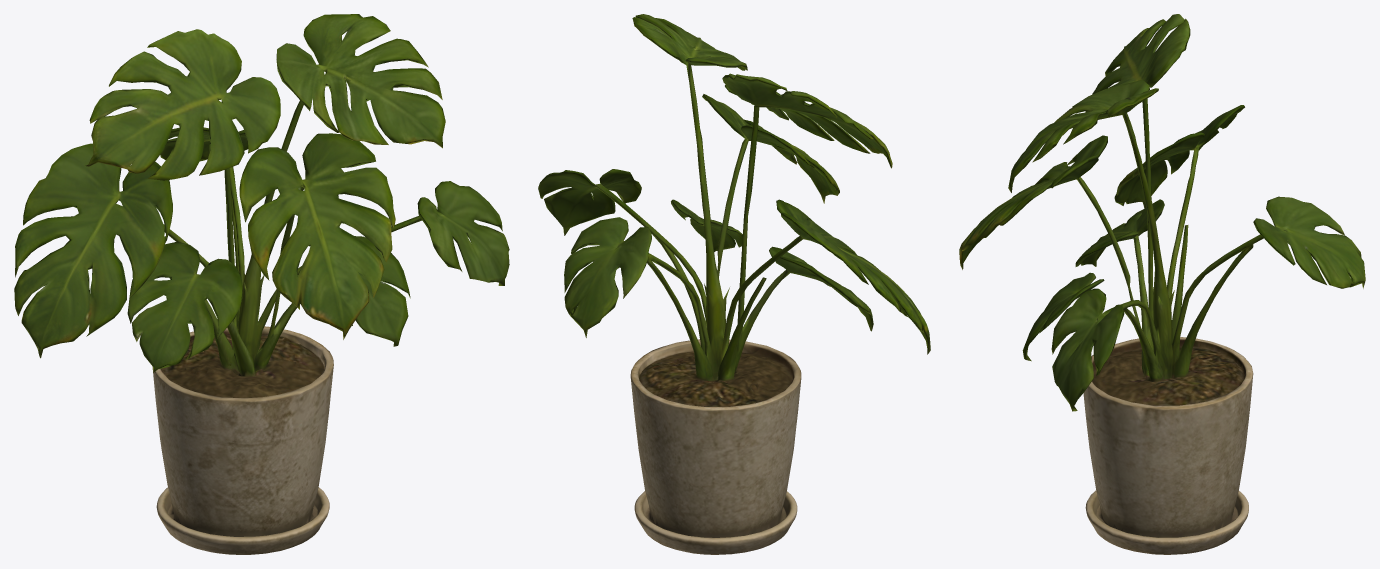
The model's file is plant.glb.
The picture shows the model from 3 angles, left to right: view 1: azimuth 30°, elevation 25°; view 2: azimuth 150°, elevation 25°; view 3: azimuth 270°, elevation 25°; orthographic projection. The views are drawn at different scales.
Parts seen in each view (by area): view 1: tripo_node_cf52bc4a-e612-42df-ad86-d9f868c4f8b4; view 2: tripo_node_cf52bc4a-e612-42df-ad86-d9f868c4f8b4; view 3: tripo_node_cf52bc4a-e612-42df-ad86-d9f868c4f8b4.
Boxes of the visible parts, x1,y1,x2,y2 form: tripo_node_cf52bc4a-e612-42df-ad86-d9f868c4f8b4: (14, 14, 509, 554); tripo_node_cf52bc4a-e612-42df-ad86-d9f868c4f8b4: (538, 14, 930, 554); tripo_node_cf52bc4a-e612-42df-ad86-d9f868c4f8b4: (959, 14, 1365, 554).
Bounding box in the file's own units: 0.9401 × 1 × 0.7808.
1 material, 1 textured.
